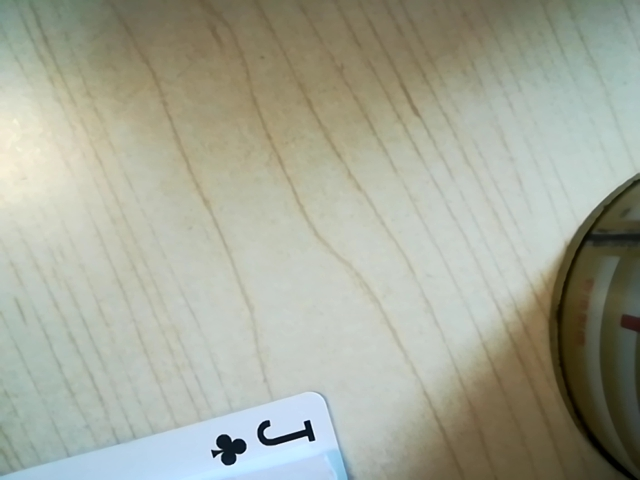mh j: (201, 409, 333, 468)
